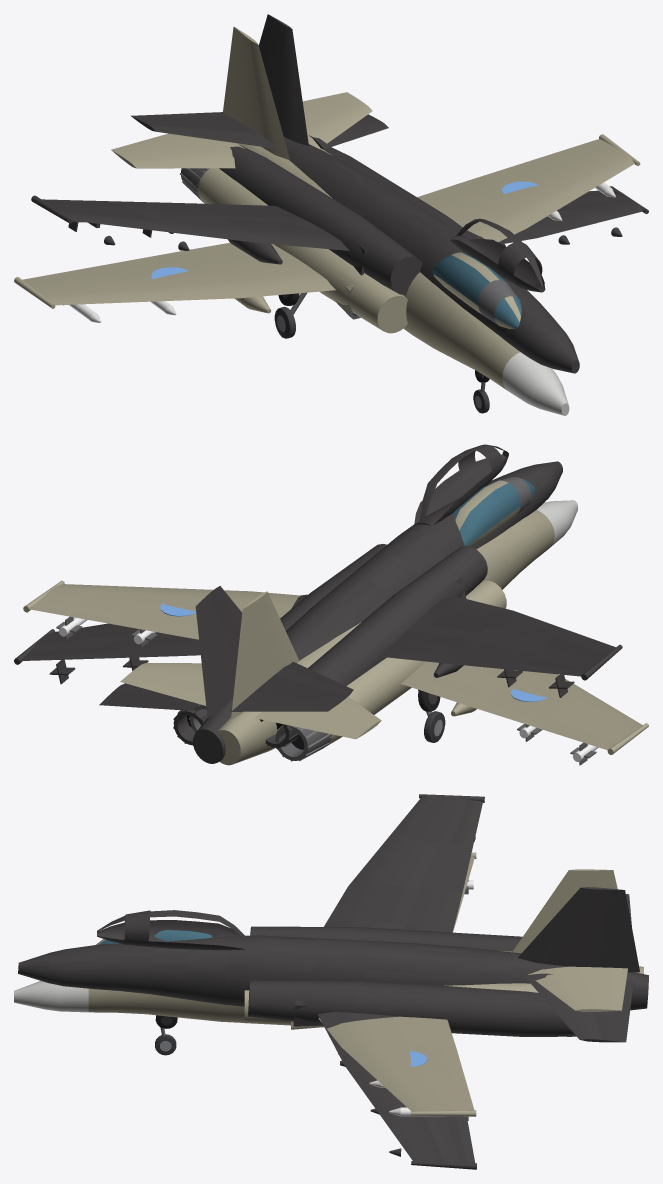
File: jet__su_25_mig_29se.glb
The picture shows the model from 3 angles, top to bottom: view 1: azimuth 30°, elevation 25°; view 2: azimuth 150°, elevation 25°; view 3: azimuth 270°, elevation 25°; orthographic projection. The views are drawn at different scales.
Parts seen in each view (by area): view 1: Fuselage_Mesh, Wreck; view 2: Wreck, Fuselage_Mesh; view 3: Wreck, Fuselage_Mesh.
Part boxes in pixels (x1,y1,x2,y2): Fuselage_Mesh: [14, 26, 640, 415]; Wreck: [31, 14, 648, 382]; Wreck: [14, 444, 622, 763]; Fuselage_Mesh: [23, 477, 648, 765]; Wreck: [18, 794, 648, 1169]; Fuselage_Mesh: [14, 852, 643, 1120].
Size of what is drawn, in the model's own units: 14.73 by 4.81 by 14.95.
